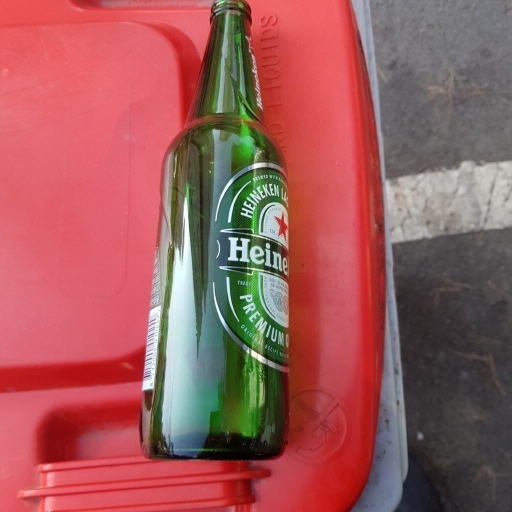Glass_1: (145, 3, 295, 464)
